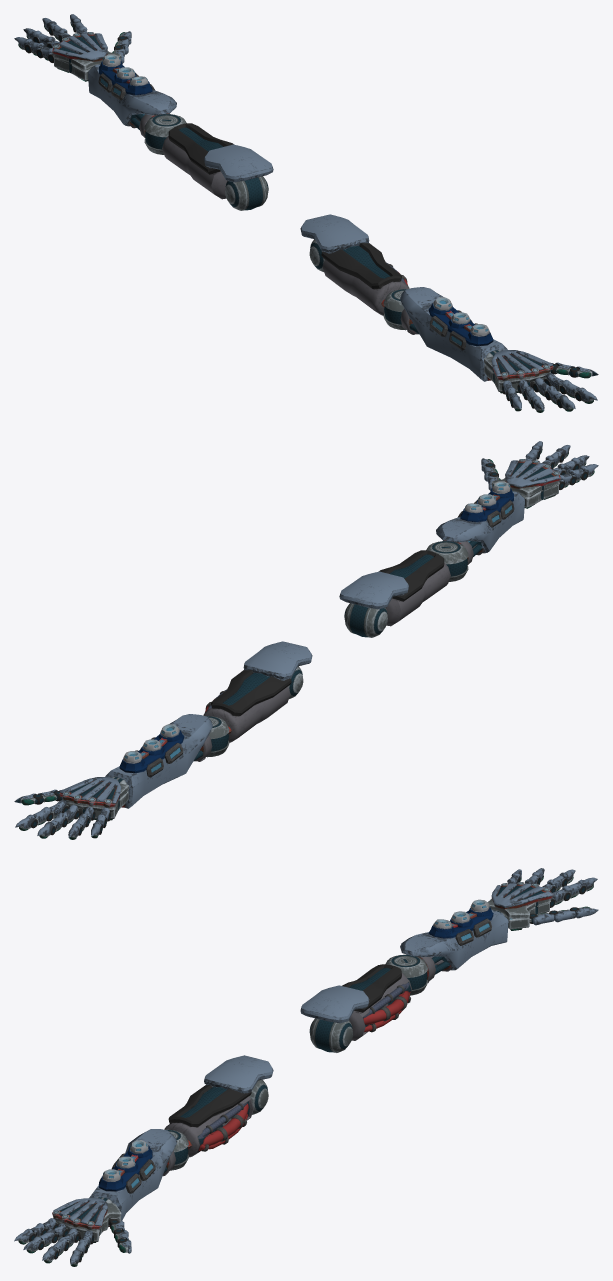
The model's file is OBJ_Bras_Teste.fbx.
3 views of the same model, one above another, from view 1: azimuth 30°, elevation 25°; view 2: azimuth 150°, elevation 25°; view 3: azimuth 330°, elevation 25° (orthographic).
Parts seen in each view (by area): view 1: OBJ_Bras; view 2: OBJ_Bras; view 3: OBJ_Bras.
Boxes of the visible parts, <box> form: OBJ_Bras: <box>14,14,598,412</box>; OBJ_Bras: <box>14,441,598,839</box>; OBJ_Bras: <box>14,868,598,1266</box>.
Size of the model in its own units: 20.53 by 9.88 by 187.
